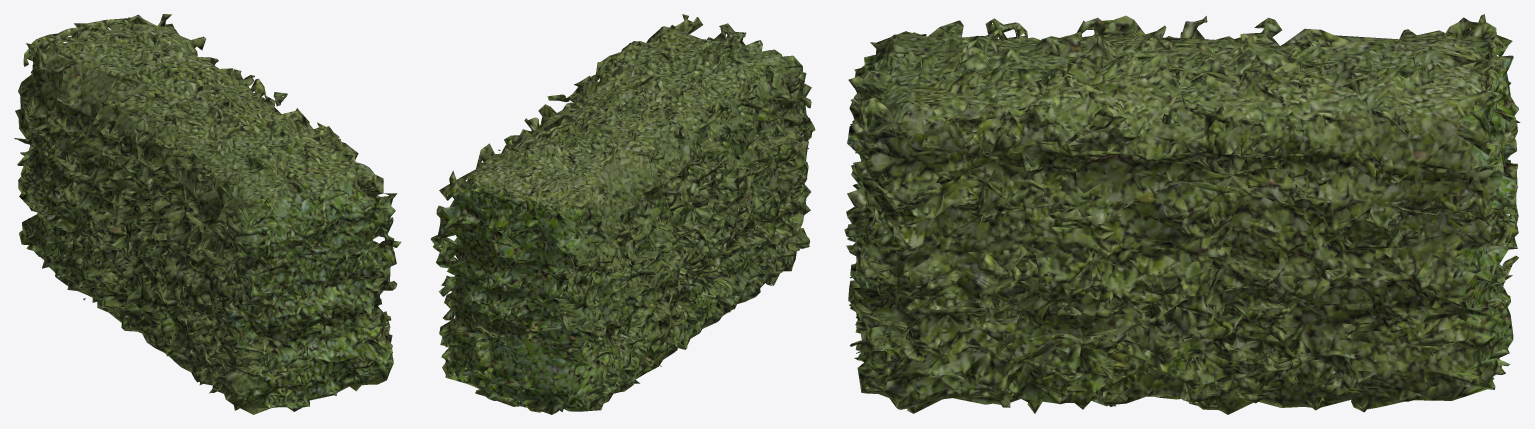
File: Hedge.glb
3 renders of one model, left to right at view 1: azimuth 30°, elevation 25°; view 2: azimuth 150°, elevation 25°; view 3: azimuth 270°, elevation 25°, orthographic. The views are drawn at different scales.
Parts seen in each view (by area): view 1: texture_mapping; view 2: texture_mapping; view 3: texture_mapping.
Boxes of the visible parts, x1,y1,x2,y2 form: texture_mapping: [14, 14, 401, 414]; texture_mapping: [430, 14, 815, 414]; texture_mapping: [844, 14, 1520, 414].
Size of the model in its own units: 0.4057 by 0.5326 by 0.9909.
1 material, 1 textured.
